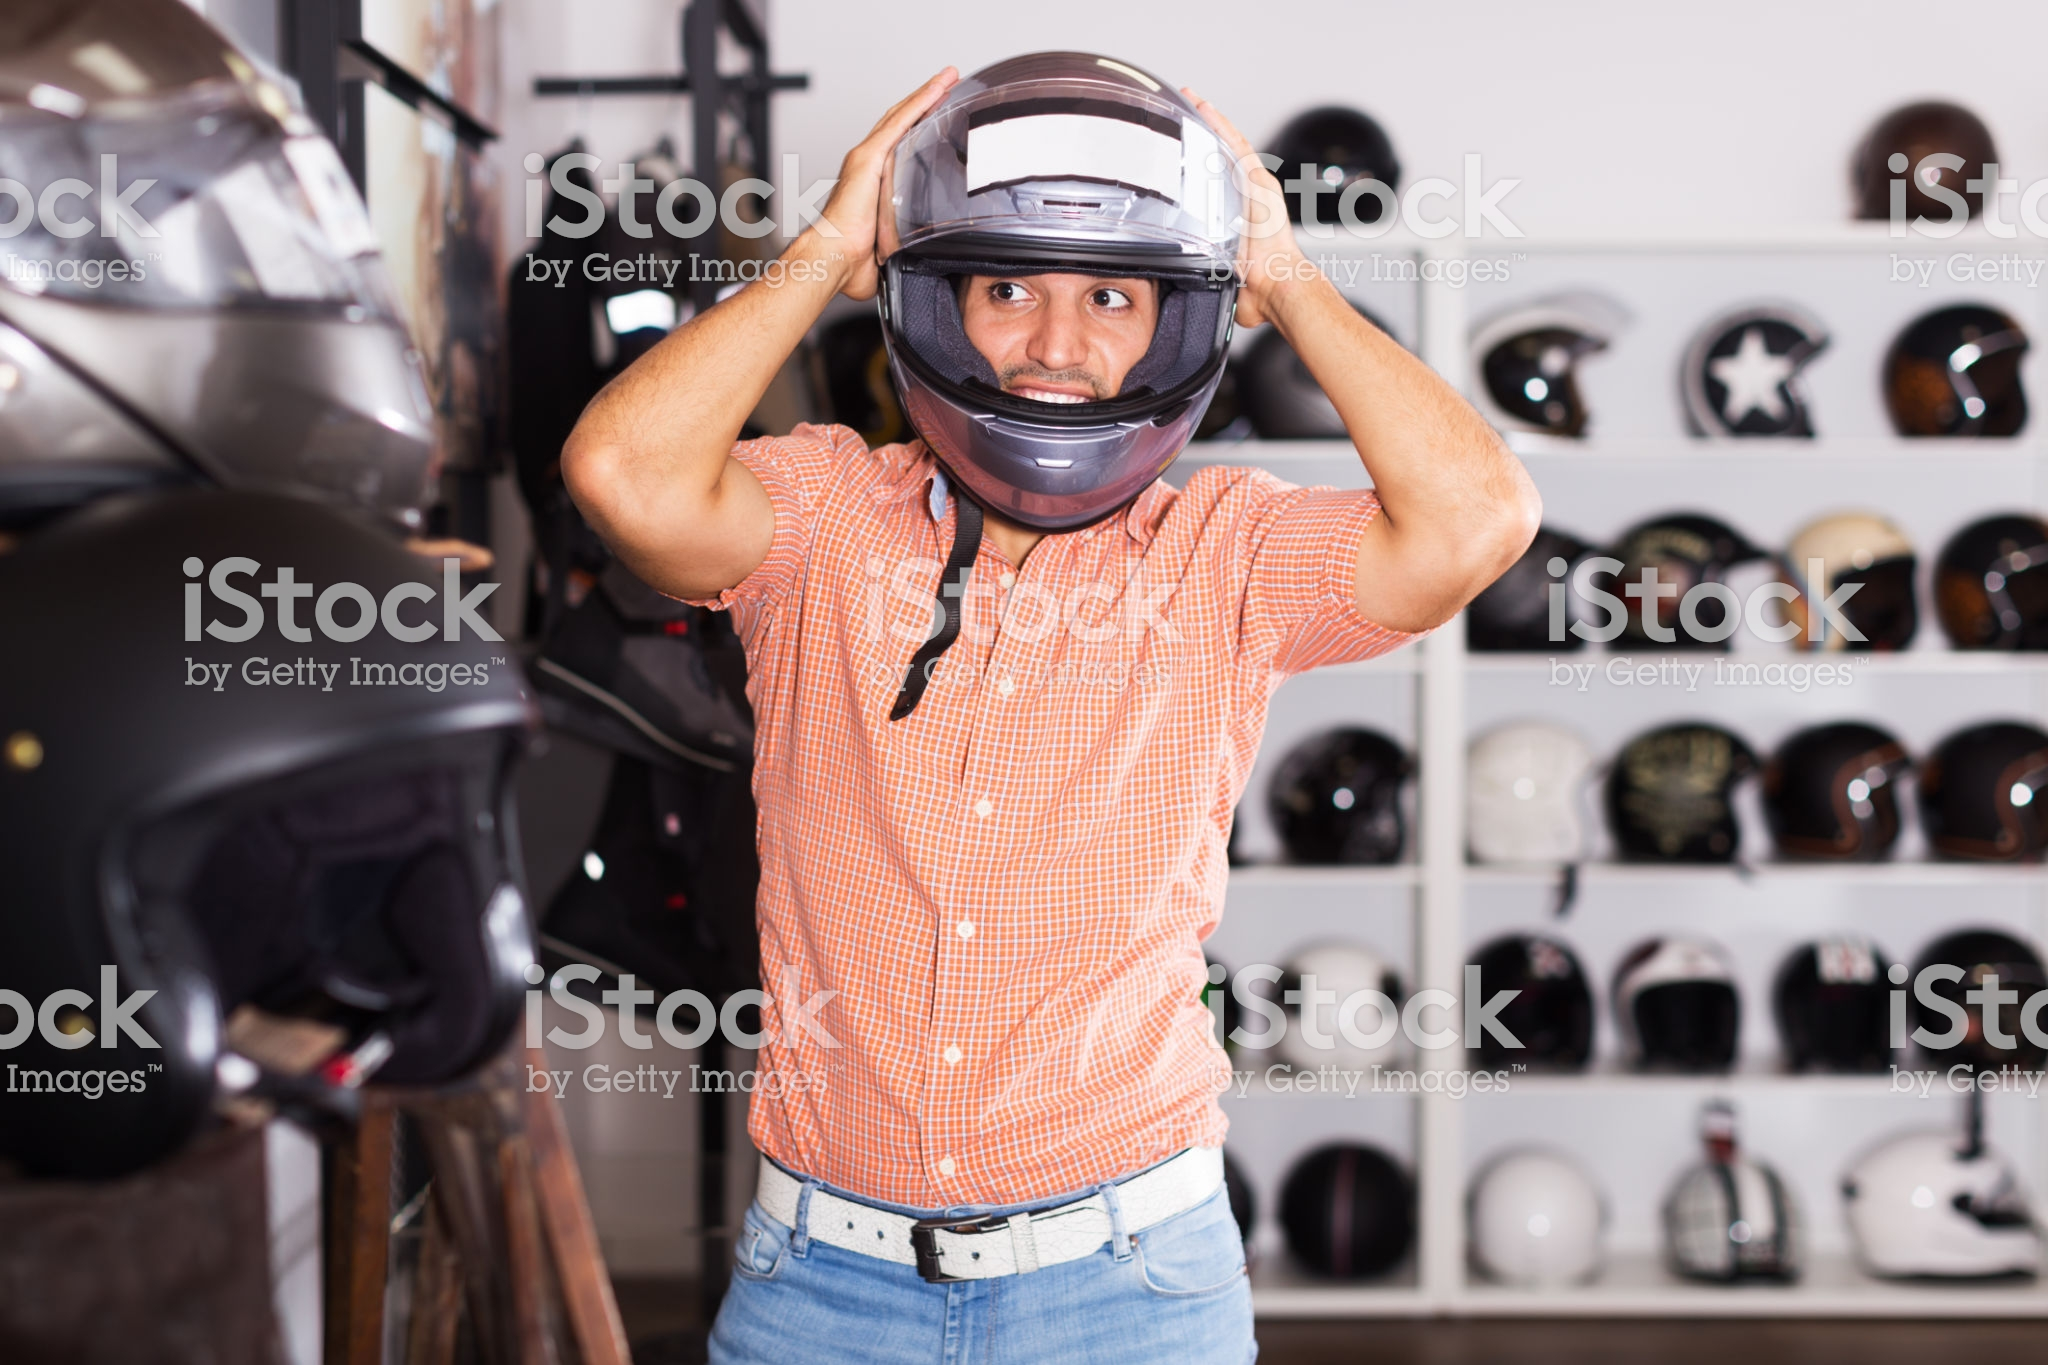helmet: (869, 52, 1267, 538)
